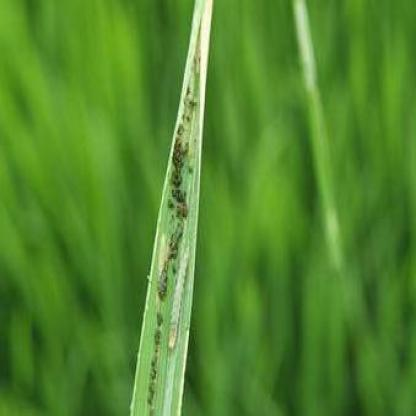leaf-folder: (158, 226, 202, 390), (173, 58, 219, 171)
